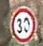limite 30: (9, 4, 36, 44)
